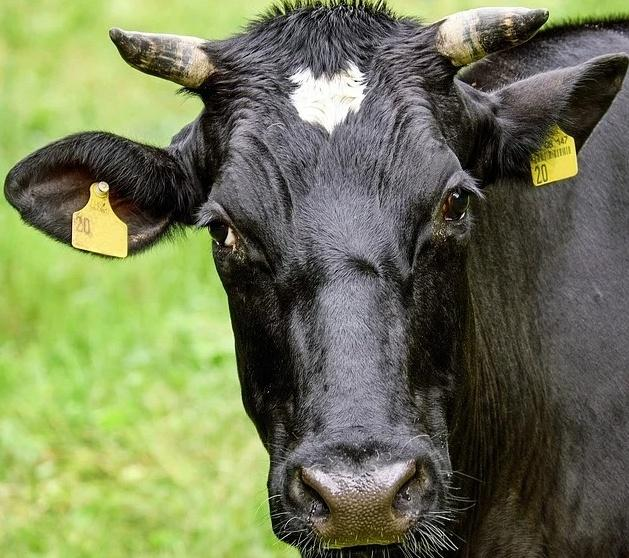muzzles: (260, 435, 459, 556)
